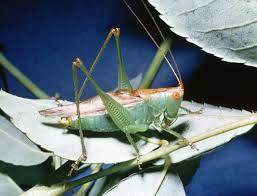insect: (35, 24, 208, 178)
